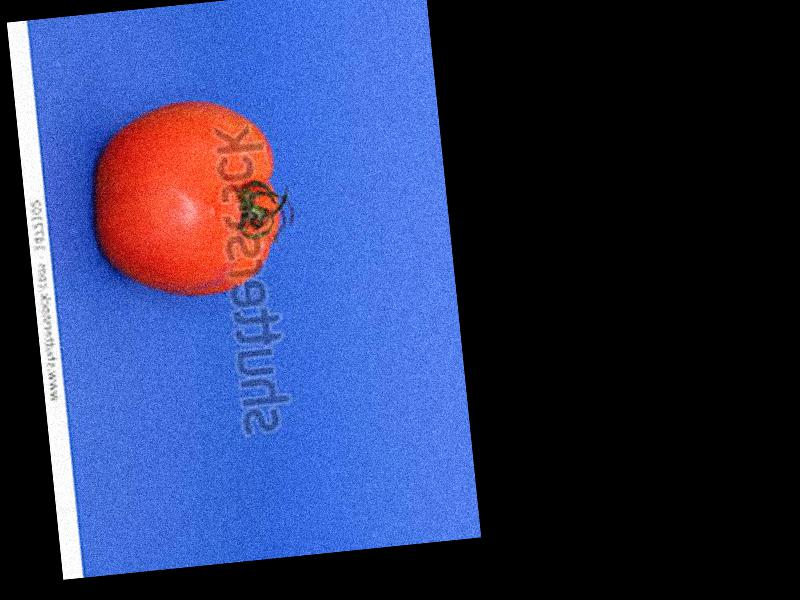Tomato: (87, 90, 288, 301)
